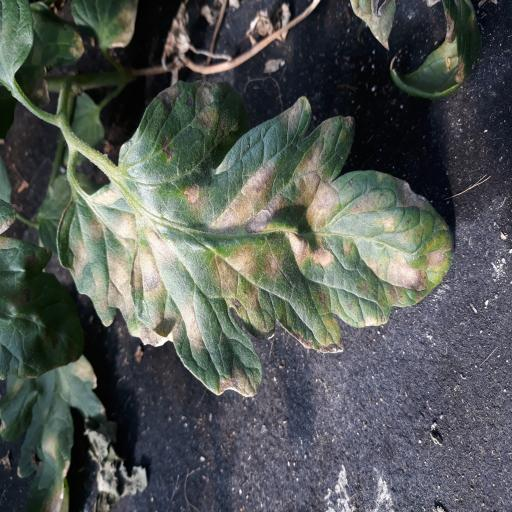Leaf Mold: (57, 77, 454, 397), (0, 354, 105, 501)
